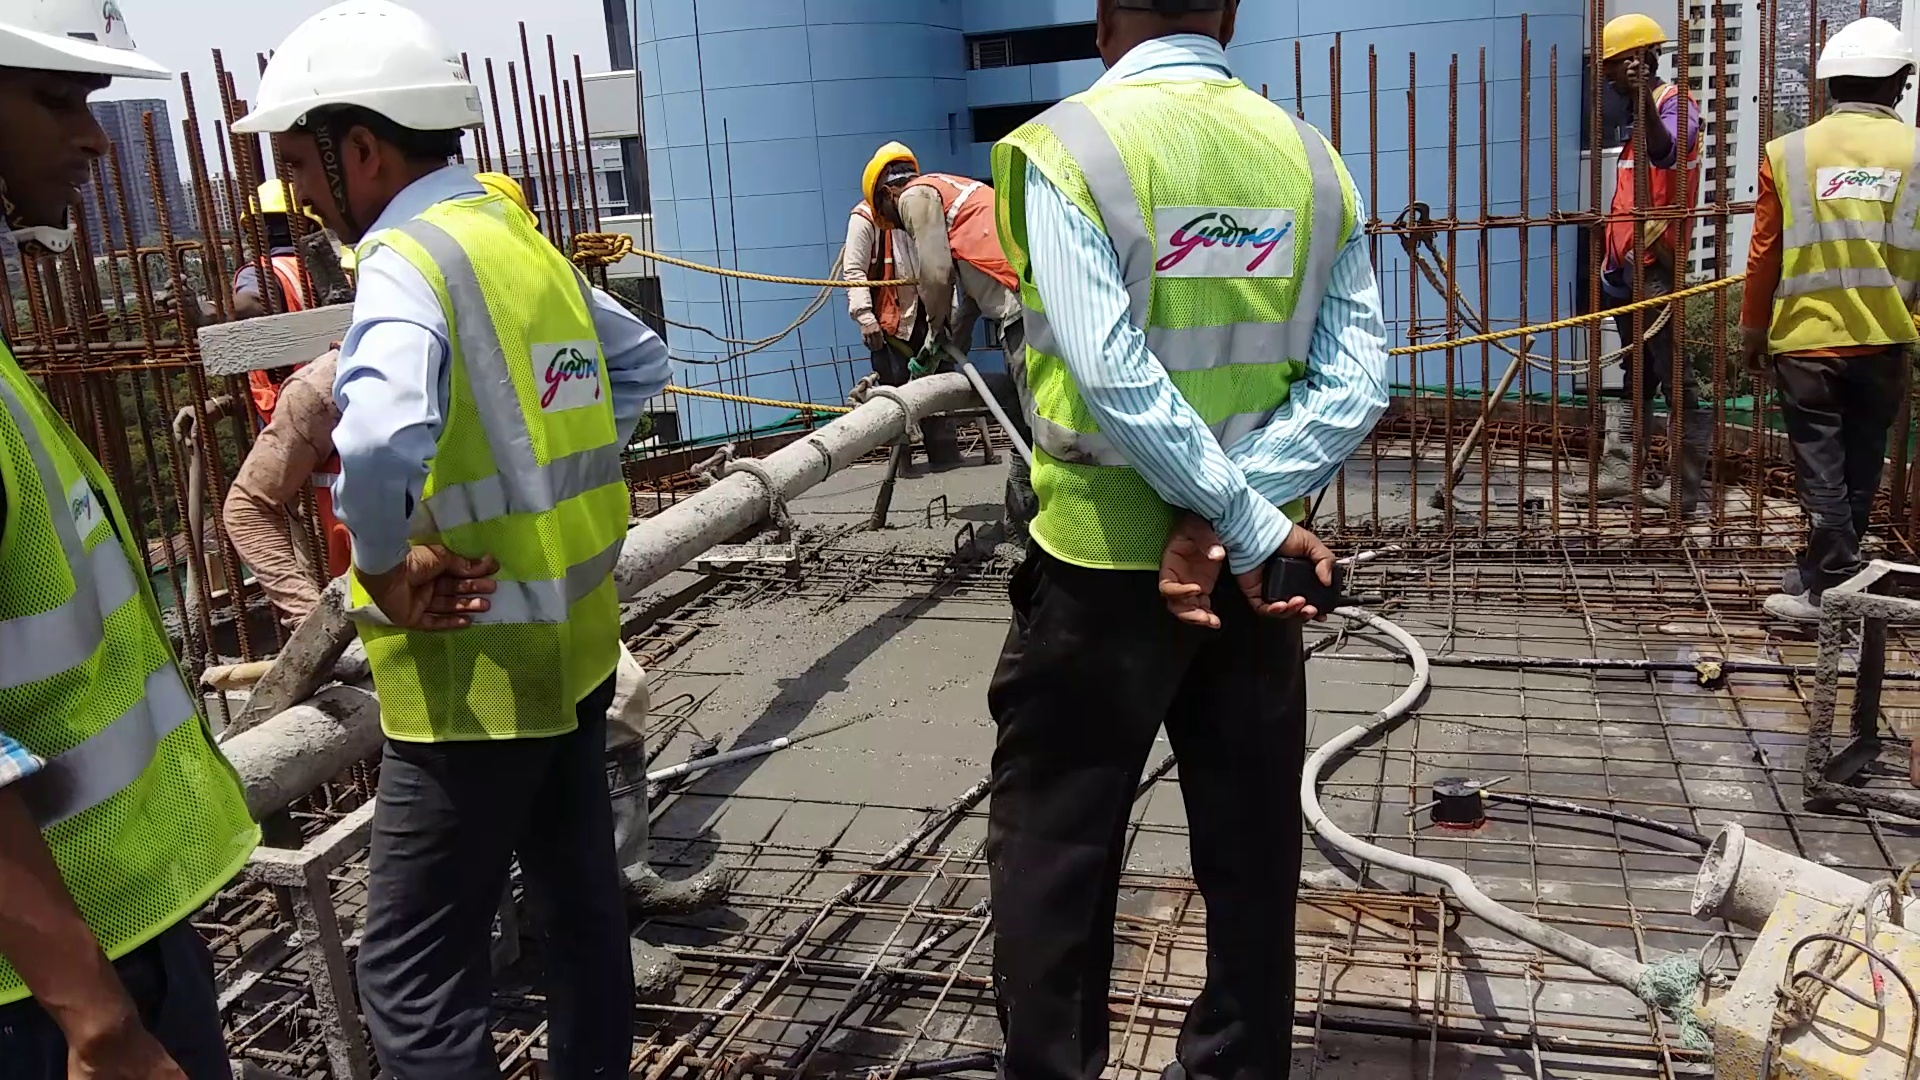SAFE: (247, 1, 622, 733), (1, 1, 191, 1021), (1760, 18, 1913, 361), (1588, 12, 1714, 287), (862, 137, 1026, 291)
